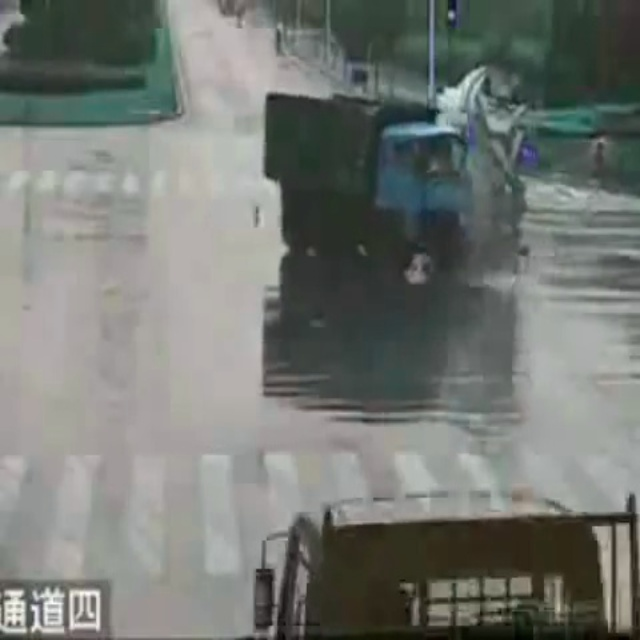acc: (236, 68, 535, 285)
